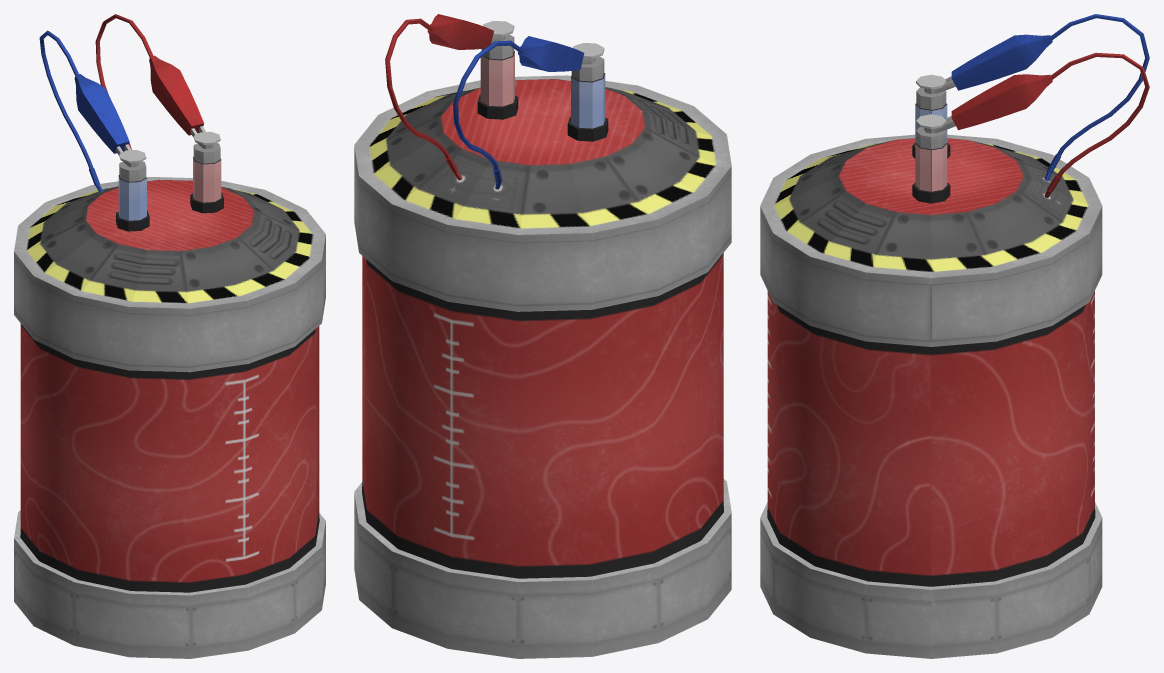
File: electrode_S.fbx
The picture shows the model from 3 angles, left to right: view 1: azimuth 30°, elevation 25°; view 2: azimuth 150°, elevation 25°; view 3: azimuth 270°, elevation 25°; orthographic projection. The views are drawn at different scales.
Parts seen in each view (by area): view 1: Electrode_S; view 2: Electrode_S; view 3: Electrode_S.
Boxes of the visible parts, bbox=[...] form: Electrode_S: bbox=[14, 14, 325, 658]; Electrode_S: bbox=[354, 14, 731, 658]; Electrode_S: bbox=[760, 14, 1149, 658].
Size of the model in its own units: 73.17 by 131 by 83.3.
2 materials, 2 textured.
